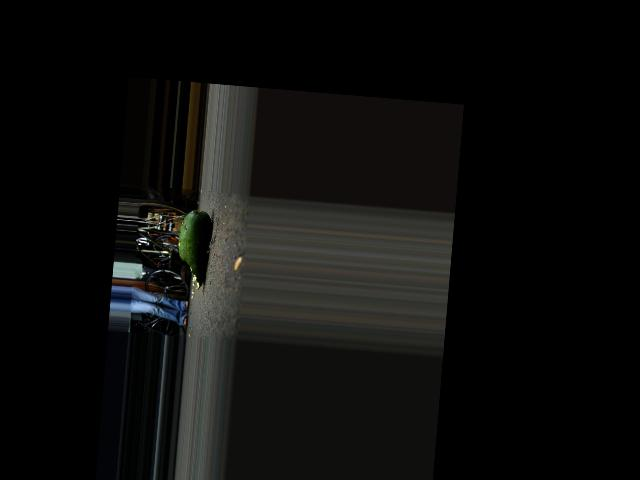cucumber: (175, 208, 212, 291)
